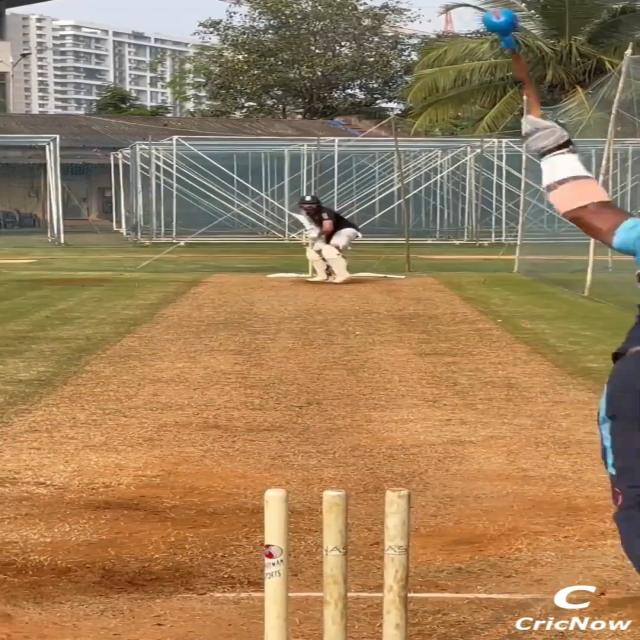stump: (262, 486, 410, 640)
